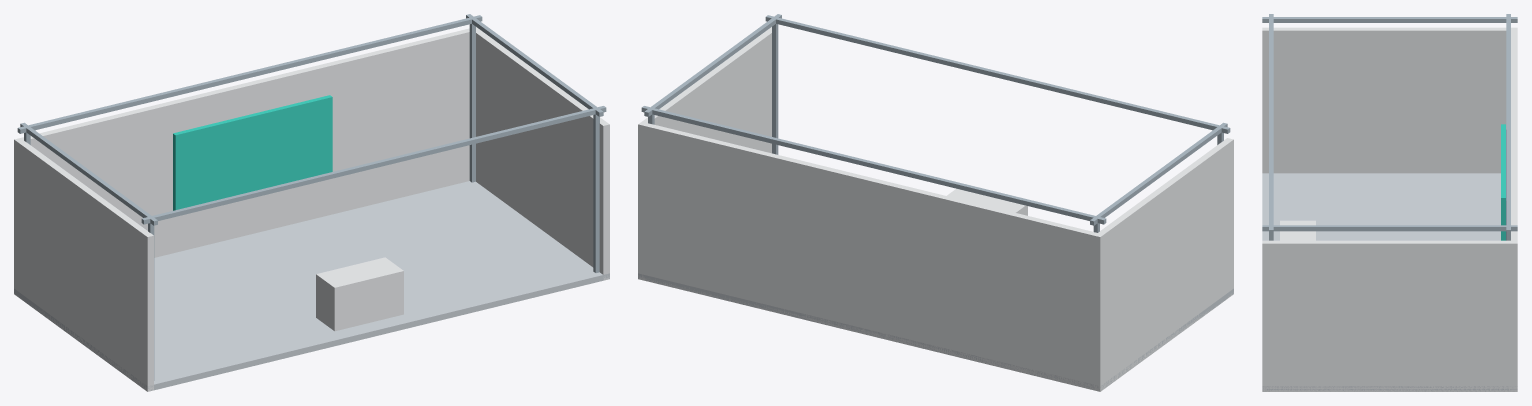
3 views of the same model, side by side, from view 1: azimuth 30°, elevation 25°; view 2: azimuth 150°, elevation 25°; view 3: azimuth 270°, elevation 25° (orthographic). The views are drawn at different scales.
Parts seen in each view (by area): view 1: Exhibition Booth Concept; view 2: Exhibition Booth Concept; view 3: Exhibition Booth Concept.
Boxes of the visible parts, x1,y1,x2,y2 form: Exhibition Booth Concept: [14, 14, 609, 391]; Exhibition Booth Concept: [638, 14, 1233, 391]; Exhibition Booth Concept: [1262, 14, 1517, 391].
Size of the model in its own units: 10 by 3.49 by 5.
